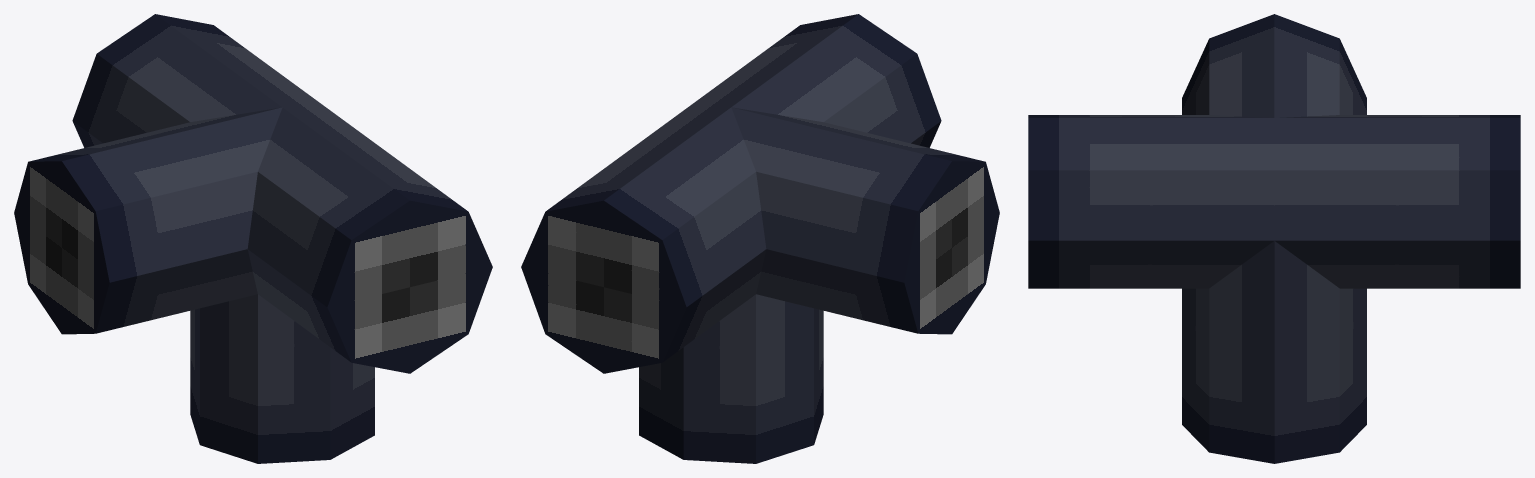
The model's file is neo_23.obj.
3 views of the same model, side by side, from view 1: azimuth 30°, elevation 25°; view 2: azimuth 150°, elevation 25°; view 3: azimuth 270°, elevation 25° (orthographic). The views are drawn at different scales.
Visible parts, largest first — view 1: pipe; view 2: pipe; view 3: pipe.
Boxes of the visible parts, x1=… form: pipe: x1=14, y1=14, x2=492, y2=463; pipe: x1=521, y1=14, x2=999, y2=463; pipe: x1=1028, y1=14, x2=1520, y2=463.
Bounding box in the file's own units: 0.6875 × 0.6875 × 1.
